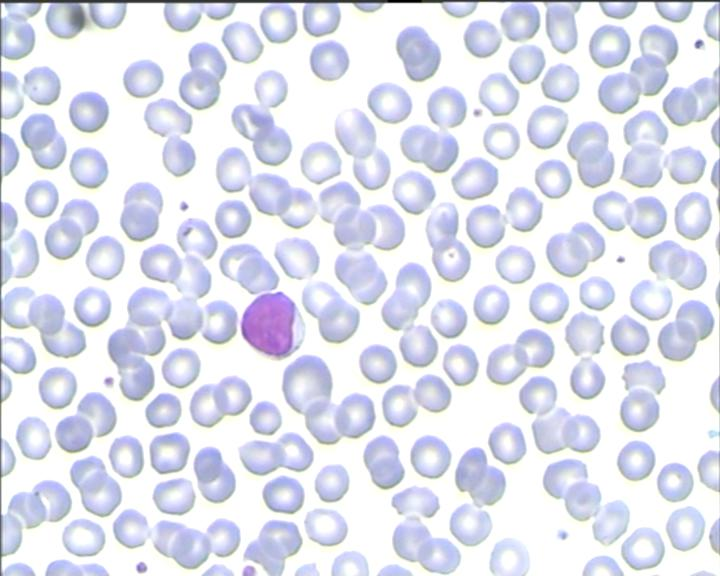lymp: (238, 289, 309, 359)
